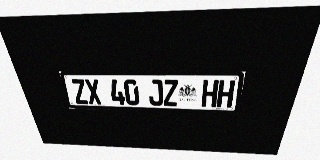0: (123, 79, 140, 105)
4: (109, 79, 126, 105)
H: (216, 80, 236, 107), (201, 80, 219, 107)
J: (148, 79, 163, 106)
X: (84, 79, 102, 104)
Z: (70, 79, 89, 104), (163, 80, 178, 106)
